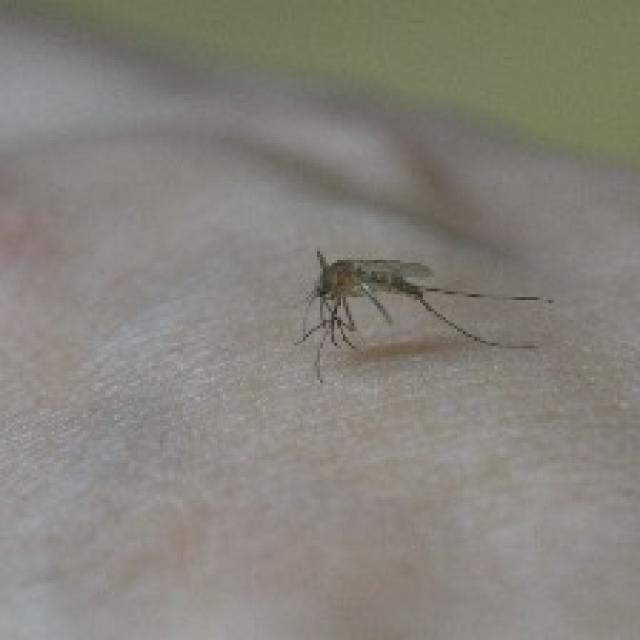culex: (292, 246, 552, 383)
